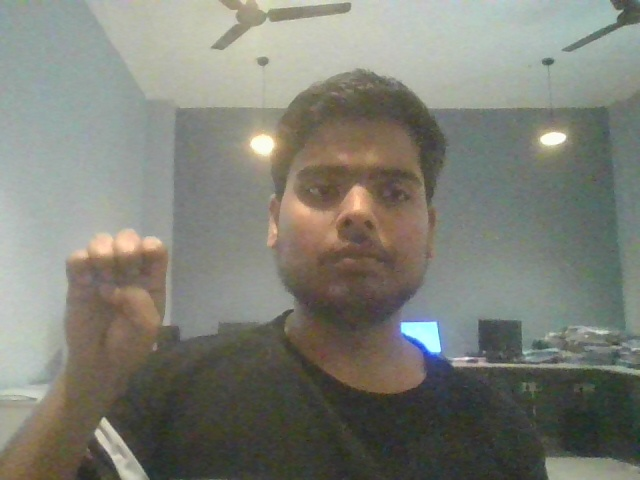E: (30, 220, 201, 394)
